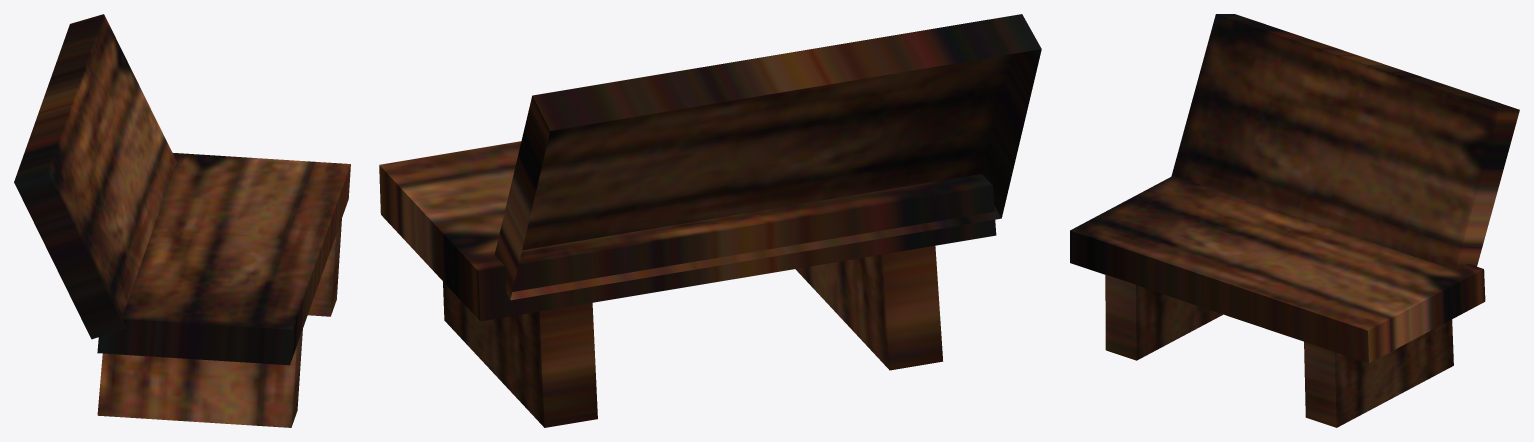
The model's file is bench.obj.
The picture shows the model from 3 angles, left to right: view 1: azimuth 30°, elevation 25°; view 2: azimuth 150°, elevation 25°; view 3: azimuth 270°, elevation 25°; orthographic projection. The views are drawn at different scales.
Parts seen in each view (by area): view 1: Bench; view 2: Bench; view 3: Bench.
Boxes of the visible parts, bbox=[...] form: Bench: bbox=[14, 14, 350, 427]; Bench: bbox=[379, 14, 1041, 427]; Bench: bbox=[1070, 14, 1519, 427].
Size of the model in its own units: 3.49 by 2.13 by 3.49.
Materials: 1 (1 with a texture image).
